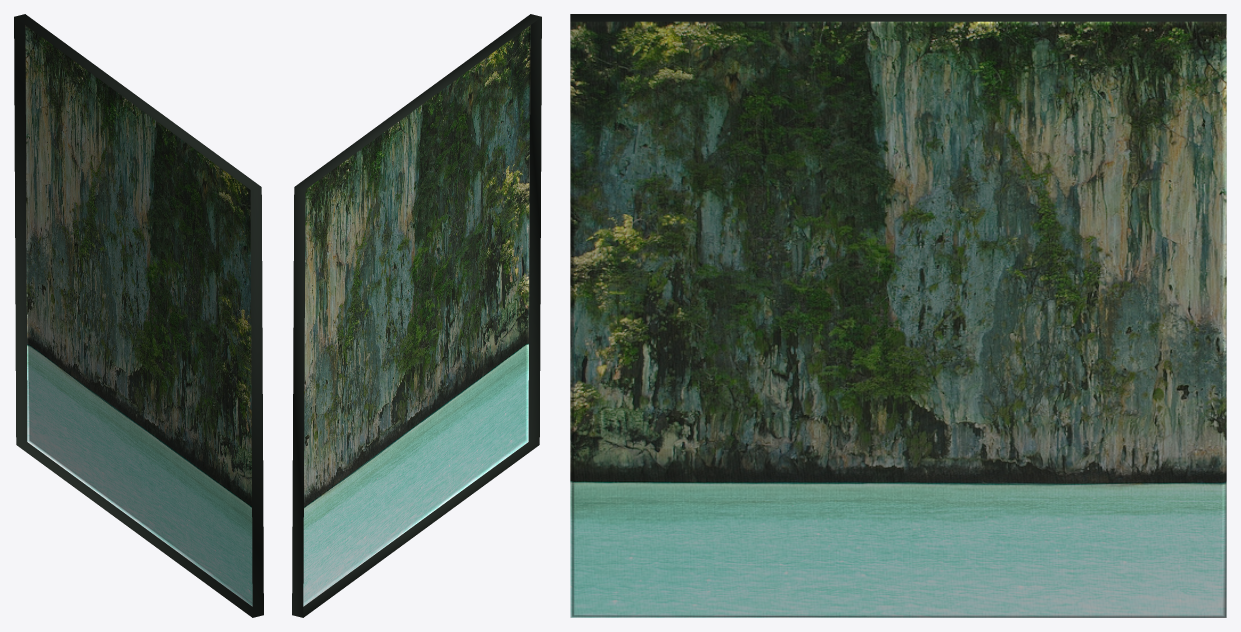
The model's file is painting_01.fbx.
3 renders of one model, left to right at view 1: azimuth 30°, elevation 25°; view 2: azimuth 150°, elevation 25°; view 3: azimuth 270°, elevation 25°, orthographic. The views are drawn at different scales.
Parts seen in each view (by area): view 1: painting_01; view 2: painting_01; view 3: painting_01.
Boxes of the visible parts, x1,y1,x2,y2 form: painting_01: (14, 14, 263, 617); painting_01: (292, 14, 541, 617); painting_01: (570, 14, 1226, 617).
Size of the model in its own units: 0.0506 by 1.4 by 1.4.
